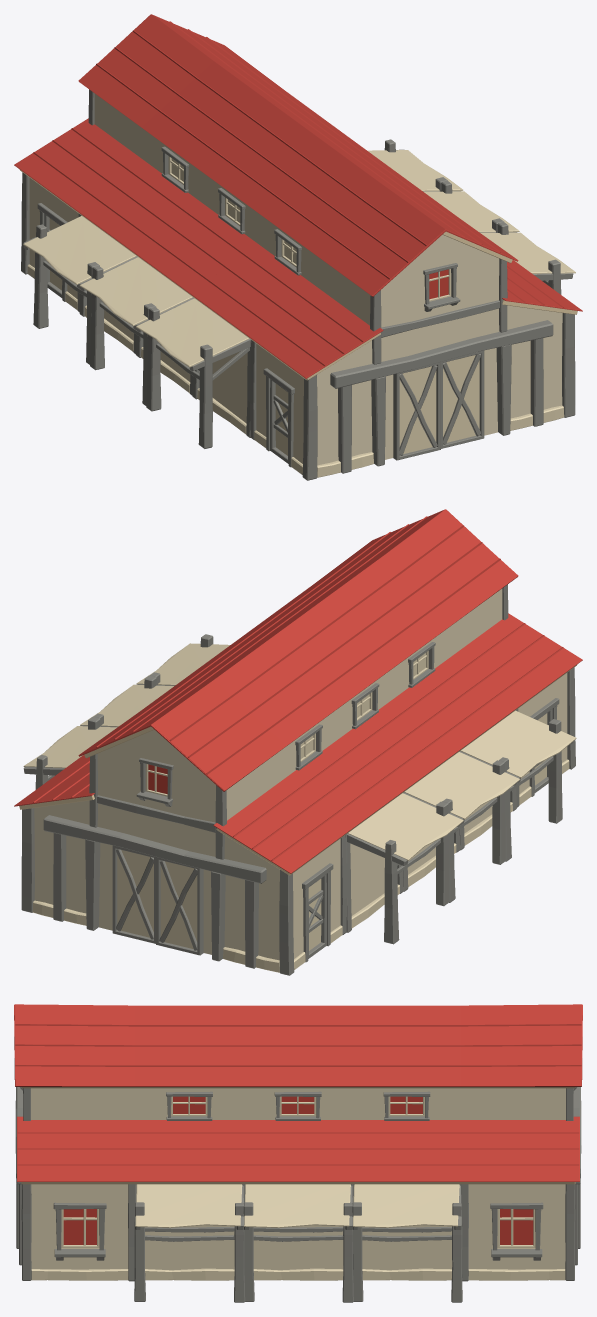
File: farmbuilding_a.gltf
3 views of the same model, one above another, from view 1: azimuth 30°, elevation 25°; view 2: azimuth 150°, elevation 25°; view 3: azimuth 270°, elevation 25° (orthographic). The views are drawn at different scales.
Visible parts, largest first — view 1: farmbuilding_a001, Box004, Box002, Line177, Box1346, Box023; view 2: farmbuilding_a001, Box004, Box002, Line177, Box1346, Box023; view 3: farmbuilding_a001, Box002, Box004, Line177, Box1346, Box023.
Part boxes in pixels (box(x1,y1,x2,y2)): farmbuilding_a001: box(14, 14, 582, 455); Box004: box(21, 89, 575, 480); Box002: box(29, 93, 562, 465); Line177: box(23, 150, 575, 367); Box1346: box(27, 264, 564, 477); Box023: box(168, 156, 451, 301); farmbuilding_a001: box(14, 509, 582, 950); Box004: box(21, 584, 575, 975); Box002: box(34, 588, 567, 960); Line177: box(23, 643, 576, 860); Box1346: box(32, 759, 569, 972); Box023: box(145, 651, 428, 796); farmbuilding_a001: box(14, 1004, 582, 1244); Box002: box(31, 1088, 565, 1270); Box004: box(15, 1087, 581, 1302); Line177: box(135, 1184, 459, 1227); Box1346: box(31, 1268, 565, 1280); Box023: box(61, 1096, 535, 1248).
Size of the model in its own units: 11.91 by 6.5 by 15.67.
1 material, 1 textured.
